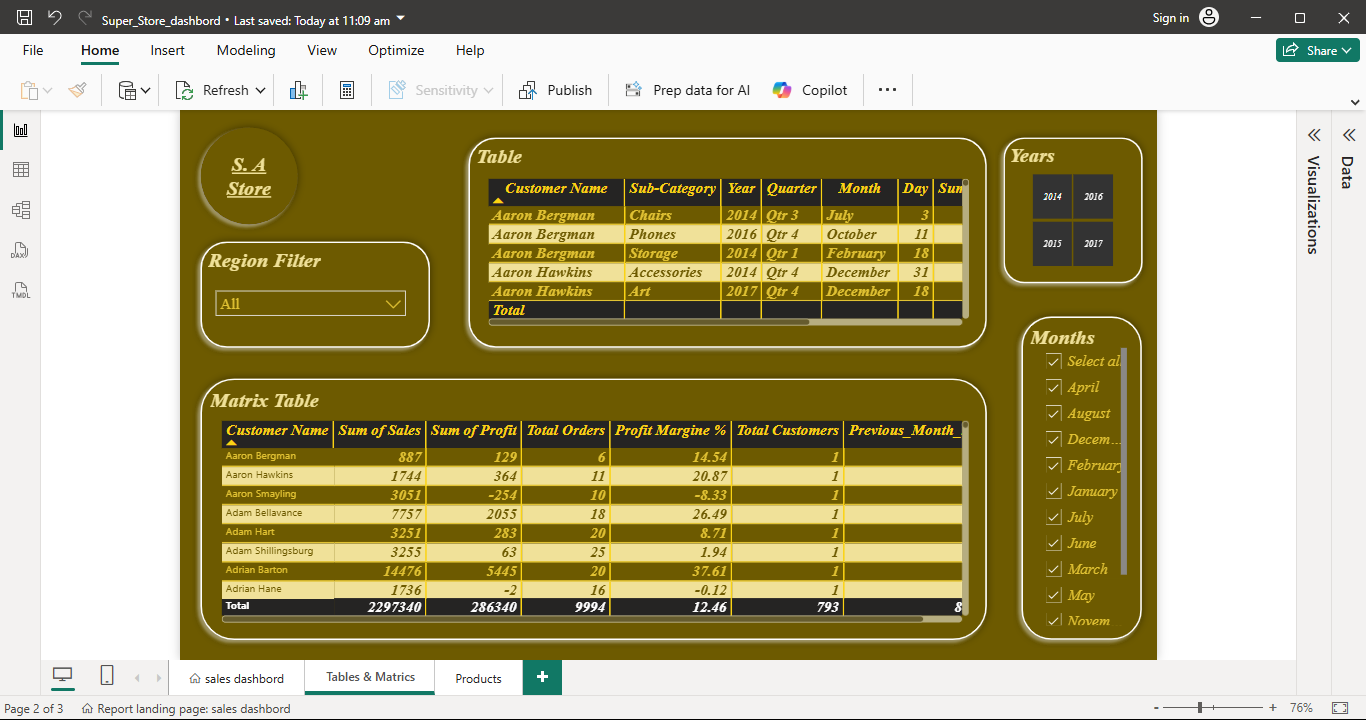

What the dashboard file says about the page in this screenshot:
{"tool":"powerbi","page":{"name":"Tables & Matrics ","canvas":[1280,720],"ordinal":1},"visuals":[{"type":"shape","box":[15.1,11.8,149.5,149.5],"z":0},{"type":"shape","box":[366.2,25.2,700.5,297.3],"z":1000},{"type":"tableEx","fields":{"Values":["Customers.Customer Name","Orders.Sub-Category","Sales.Order Date.Variation.Date Hierarchy.Year","Sales.Order Date.Variation.Date Hierarchy.Quarter","Sales.Order Date.Variation.Date Hierarchy.Month","Sales.Order Date.Variation.Date Hierarchy.Day","Sum(Sales.Sales)","Orders.Category","Customers.Region"]},"box":[398.1,85.7,640,201.6],"z":2000},{"type":"shape","box":[15.1,341,1051.5,364.5],"z":3000},{"type":"pivotTable","fields":{"Rows":["Customers.Customer Name"],"Values":["Sum(Sales.Sales)","Sum(Sales.Profit)","Sales.Total Orders","Sales.Profit Margine %","Sales.Total Customers","Sales.Previous_Month_sales"]},"box":[50.4,401.5,987.7,273.8],"z":4000},{"type":"shape","box":[1067,24.6,204.2,213],"z":5000},{"type":"slicer","fields":{"Values":["Sales.Year"]},"box":[1089.8,77.5,154.9,133.8],"z":6000},{"type":"shape","box":[15.1,161.3,322.5,161.3],"z":7000},{"type":"slicer","fields":{"Values":["Customers.Region"]},"box":[37,226.8,268.8,60.5],"z":8000},{"type":"shape","box":[1089.8,258.8,179.6,445.4],"z":9000},{"type":"slicer","fields":{"Values":["Sales.Month Name"]},"box":[1120.4,305.7,124.3,372.9],"z":10000}]}

Visuals, with their boxes on the page's 1280x720 design canvas (x1, y1, x2, y2). These are canvas units, not pixel positions in the 1366x720 screenshot, which may show the page scaled, cropped or inside an application window:
shape: left=15, top=12, right=165, bottom=161
shape: left=366, top=25, right=1067, bottom=322
tableEx - Customers.Customer Name x Orders.Sub-Category: left=398, top=86, right=1038, bottom=287
shape: left=15, top=341, right=1067, bottom=706
pivotTable - Customers.Customer Name x Sum(Sales.Sales): left=50, top=402, right=1038, bottom=675
shape: left=1067, top=25, right=1271, bottom=238
slicer - Sales.Year: left=1090, top=78, right=1245, bottom=211
shape: left=15, top=161, right=338, bottom=323
slicer - Customers.Region: left=37, top=227, right=306, bottom=287
shape: left=1090, top=259, right=1269, bottom=704
slicer - Sales.Month Name: left=1120, top=306, right=1245, bottom=679
